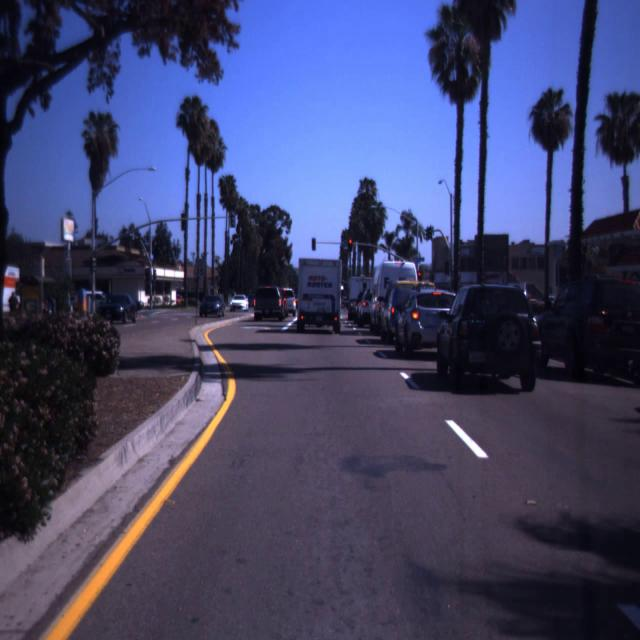stop: (347, 238, 353, 250)
stop traffic light: (347, 238, 353, 250)
